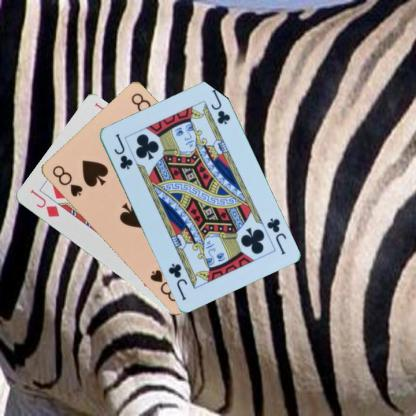8s: (49, 162, 84, 198)
Jc: (263, 215, 288, 256), (111, 131, 134, 171)
Jd: (27, 186, 61, 218)
